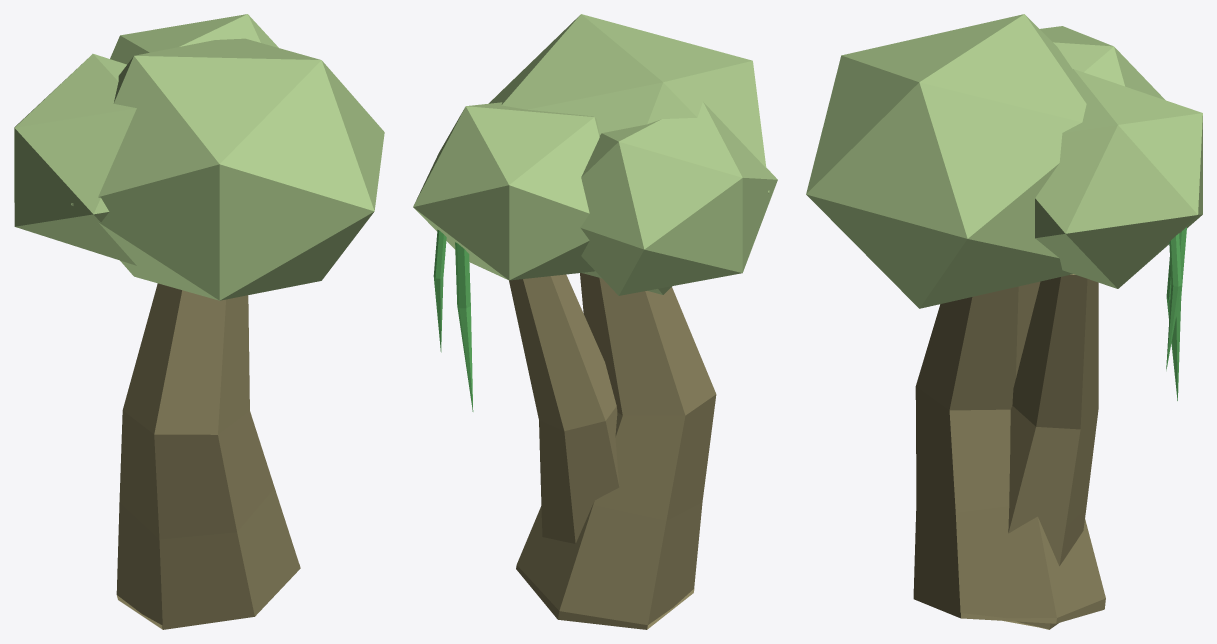
The model's file is Arbre_moyen_2_V002.fbx.
3 renders of one model, left to right at view 1: azimuth 30°, elevation 25°; view 2: azimuth 150°, elevation 25°; view 3: azimuth 270°, elevation 25°, orthographic. The views are drawn at different scales.
Parts seen in each view (by area): view 1: Platonic, Sweep, Platonic_2, Platonic_1; view 2: Sweep, Platonic_2, Platonic_1, Platonic, Sweep_1, Liane_3, Liane; view 3: Platonic, Sweep, Platonic_1, Sweep_1, Platonic_2, Liane, Liane_3.
Part boxes in pixels (<box>): Platonic: <box>71,38,384,300</box>; Sweep: <box>116,283,300,629</box>; Platonic_2: <box>14,54,136,265</box>; Platonic_1: <box>110,14,278,64</box>; Sweep: <box>516,273,716,629</box>; Platonic_2: <box>580,102,777,295</box>; Platonic_1: <box>413,102,599,280</box>; Platonic: <box>489,14,769,294</box>; Sweep_1: <box>509,274,619,543</box>; Liane_3: <box>455,242,473,411</box>; Liane: <box>433,229,446,352</box>; Platonic: <box>806,14,1086,308</box>; Sweep: <box>913,281,1105,623</box>; Platonic_1: <box>1035,69,1202,288</box>; Sweep_1: <box>1002,275,1098,629</box>; Platonic_2: <box>1040,26,1165,100</box>; Liane: <box>1166,233,1181,370</box>; Liane_3: <box>1166,227,1186,400</box>.
Bounding box in the file's own units: 284 × 466 × 293.
